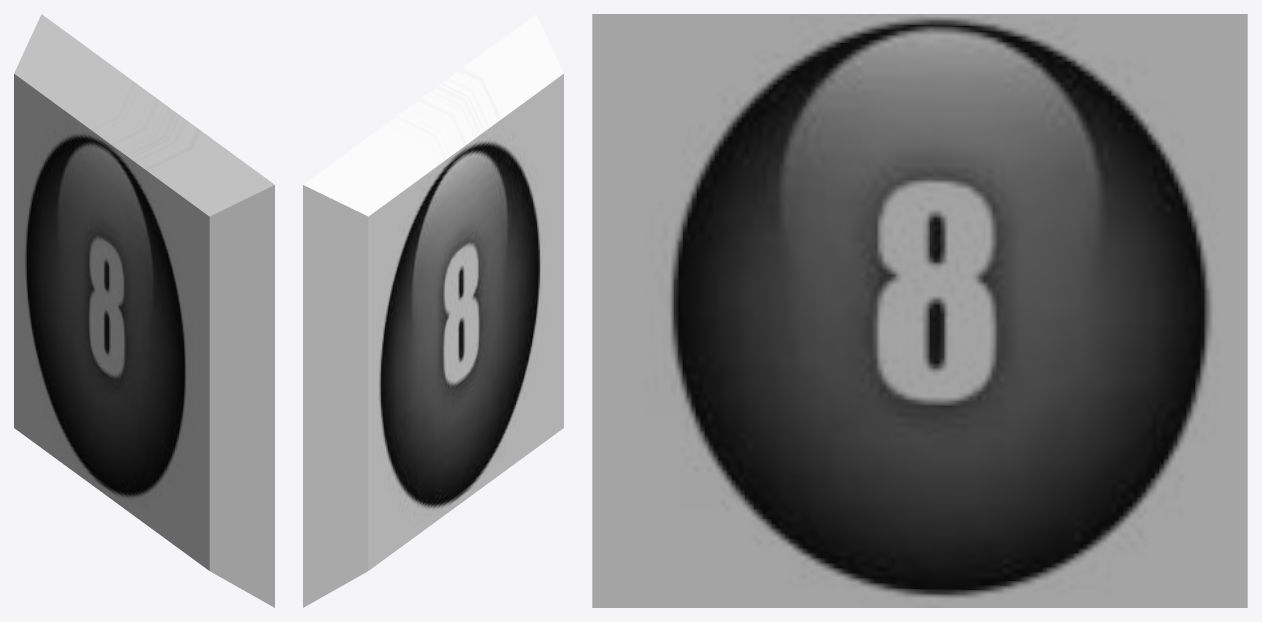
3 renders of one model, left to right at view 1: azimuth 30°, elevation 25°; view 2: azimuth 150°, elevation 25°; view 3: azimuth 270°, elevation 25°, orthographic. The views are drawn at different scales.
Visible parts, largest first — view 1: Cubo.044; view 2: Cubo.044; view 3: Cubo.044.
Boxes of the visible parts, bbox=[...] form: Cubo.044: bbox=[14, 14, 274, 607]; Cubo.044: bbox=[303, 14, 563, 607]; Cubo.044: bbox=[592, 14, 1247, 607].
Bounding box in the file's own units: 0.0153 × 0.1334 × 0.1333.
Materials: 1 (1 with a texture image).
